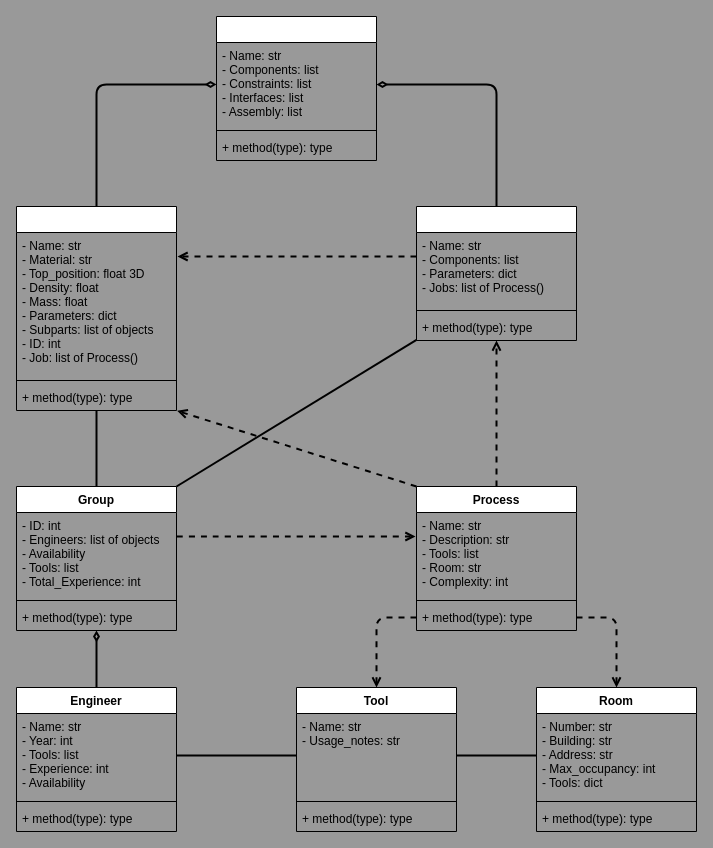
The diagram is 713 pixels wide and 848 high, and some of its shapes have lost their labels. The shapes that lost their labels are listed below. From the top down, each one's box as (x1, y1, x2, y2) in pixels, then its label:
(216, 16, 376, 160): Rocket
(416, 206, 576, 340): Interface
(16, 206, 176, 410): Component
